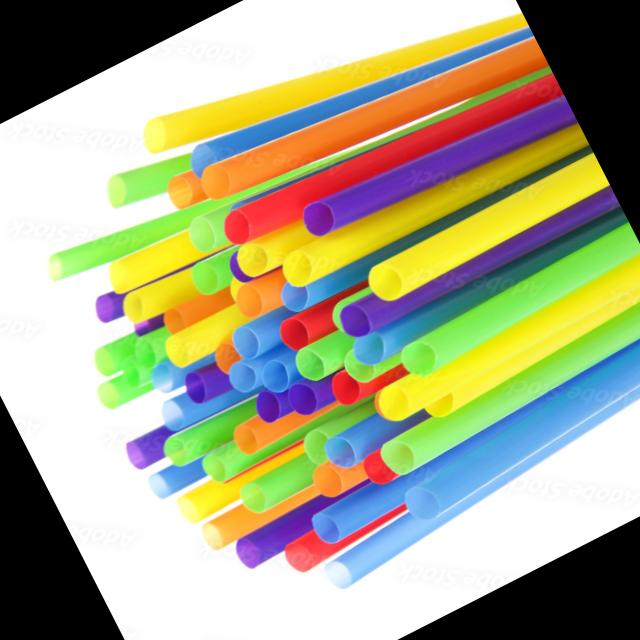plastic: (277, 66, 583, 270)
